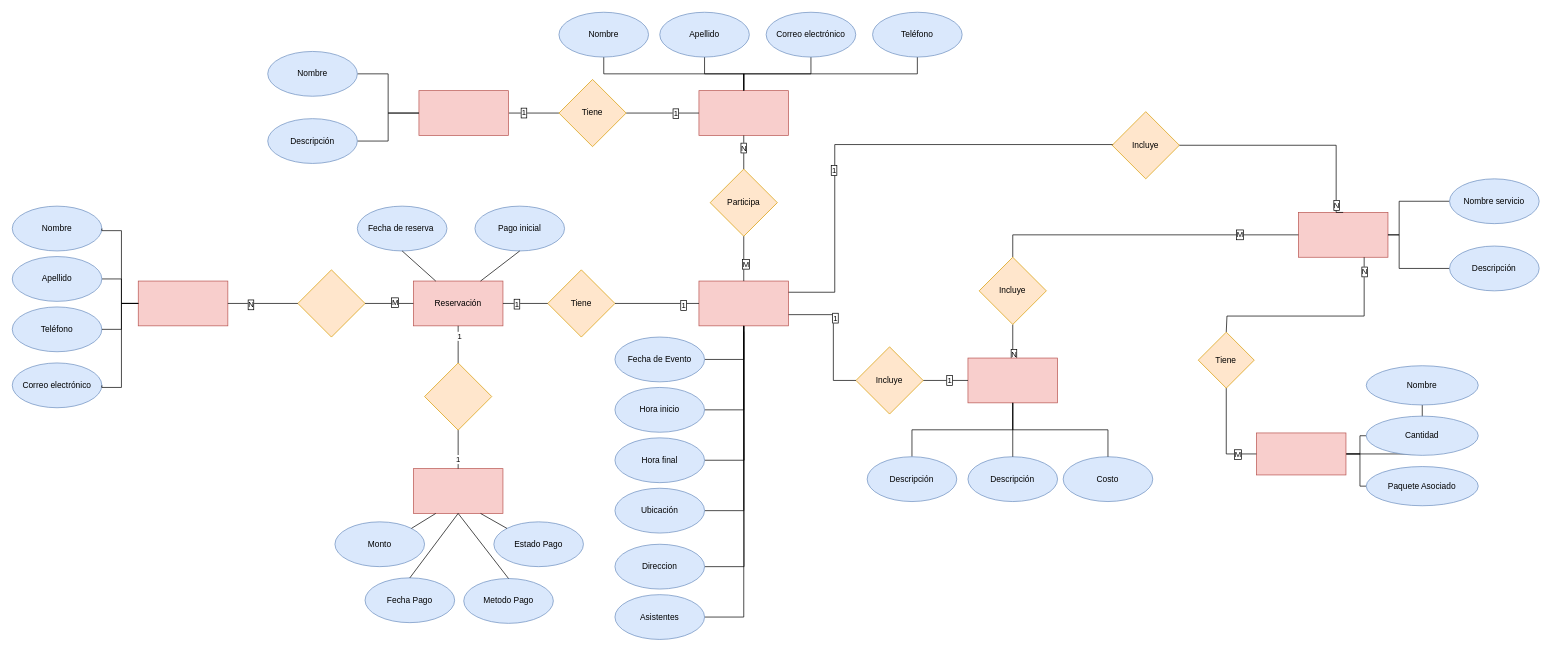
The diagram is 1552 pixels wide and 652 high, and some of its shapes have lost their labels. The box of each missing label's shape, as (x1, y1, x2, y2) in pixels:
Clientes: (138, 280, 228, 326)
Empleado: (698, 90, 789, 135)
Evento: (698, 280, 789, 326)
Hace: (297, 269, 365, 337)
Pago: (413, 468, 503, 513)
Paquete: (967, 357, 1058, 403)
Requiere: (424, 362, 492, 430)
Rol: (418, 90, 509, 135)
Servicio: (1298, 212, 1388, 257)
Utilería: (1256, 432, 1346, 475)
